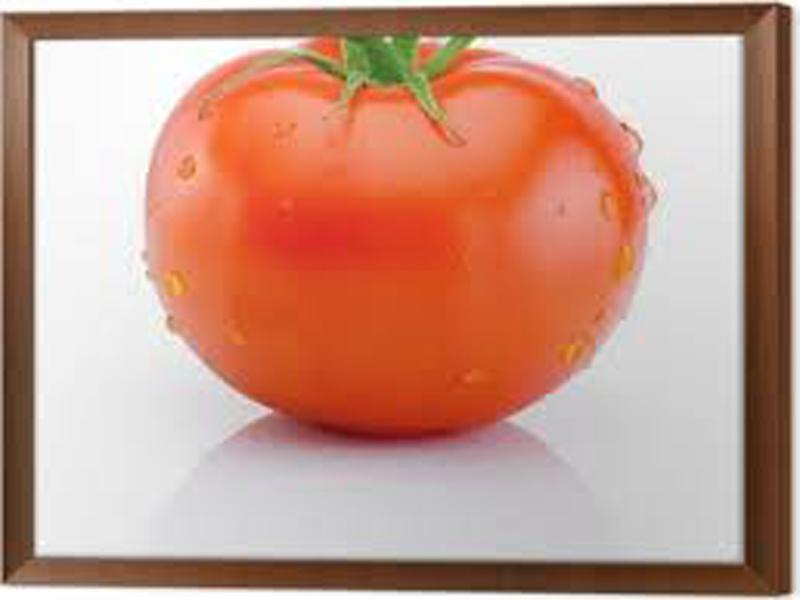Tomato: (146, 34, 648, 437)
